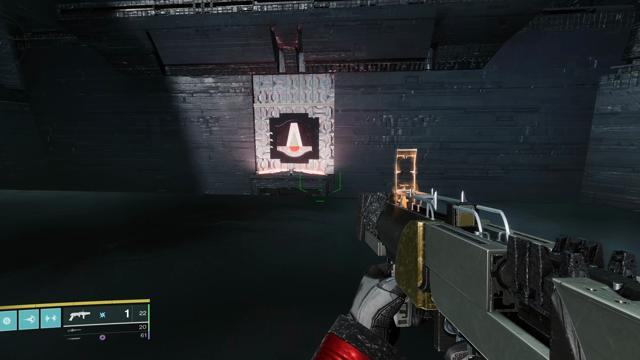enter: (277, 119, 313, 158)
